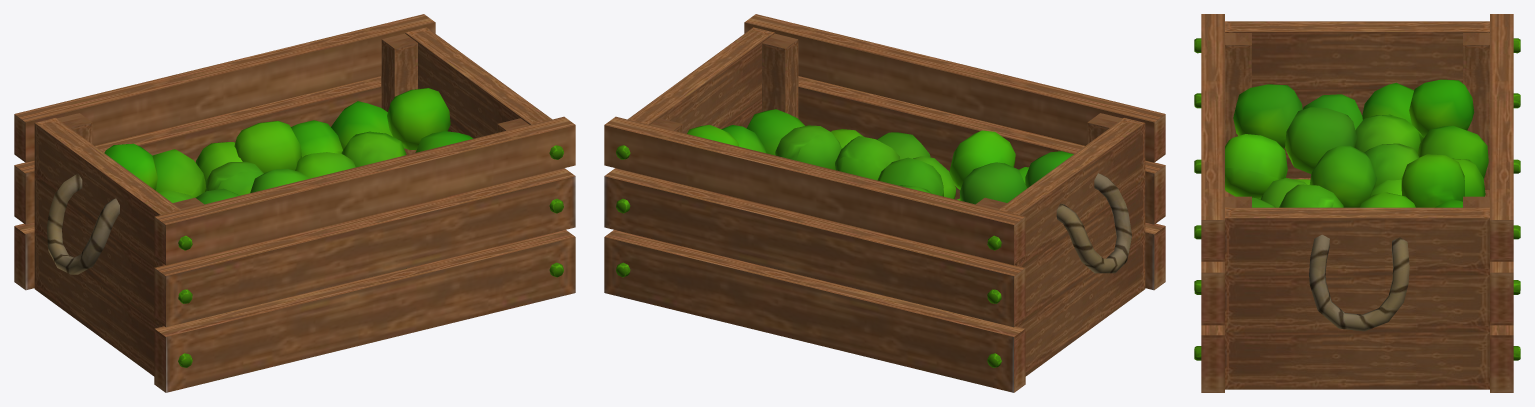
The model's file is FarmCrate_GreenApples.gltf.
3 renders of one model, left to right at view 1: azimuth 30°, elevation 25°; view 2: azimuth 150°, elevation 25°; view 3: azimuth 270°, elevation 25°, orthographic. The views are drawn at different scales.
Visible parts, largest first — view 1: FarmCrate_GreenApples; view 2: FarmCrate_GreenApples; view 3: FarmCrate_GreenApples.
Boxes of the visible parts, x1,y1,x2,y2 form: FarmCrate_GreenApples: (14,14,575,392); FarmCrate_GreenApples: (604,14,1165,392); FarmCrate_GreenApples: (1194,14,1520,392).
Size of the model in its own units: 0.7138 by 0.2438 by 0.4142.
Materials: 3 (3 with a texture image).
